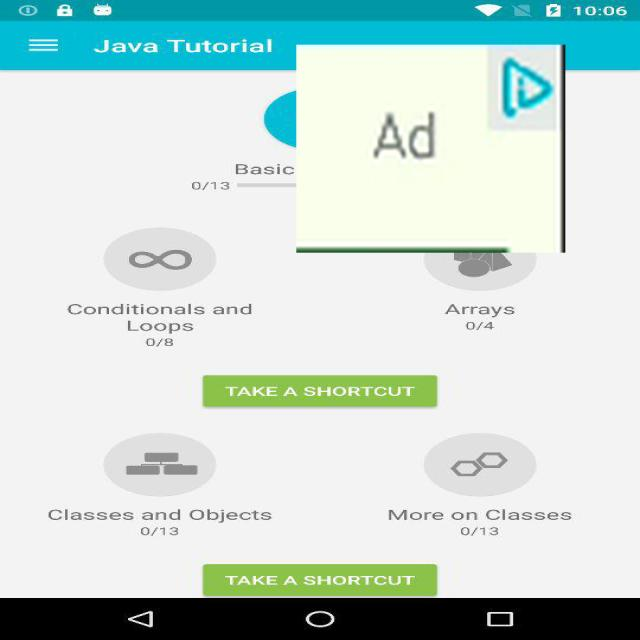sneaking: (296, 44, 566, 252)
